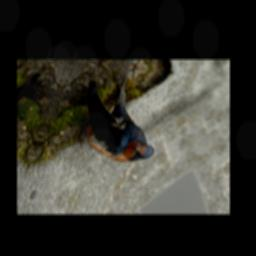Swallow: (60, 63, 188, 167)
